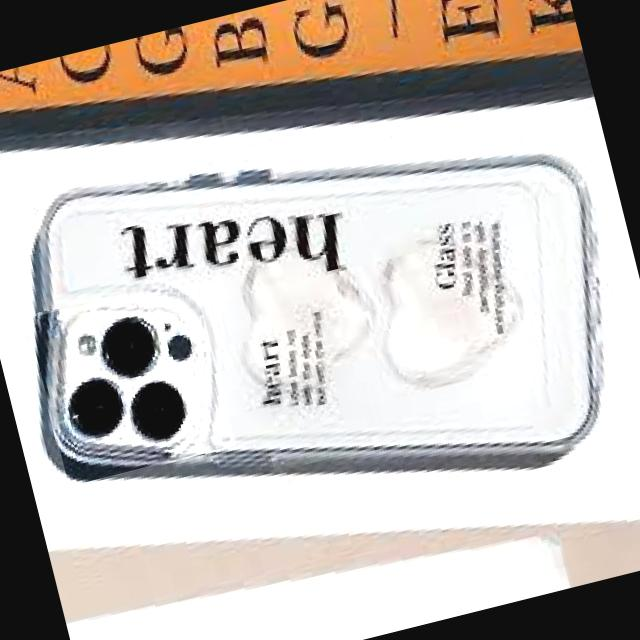lens_back: (117, 363, 205, 454), (87, 303, 176, 389), (60, 371, 134, 442)
phone: (0, 69, 634, 572)
